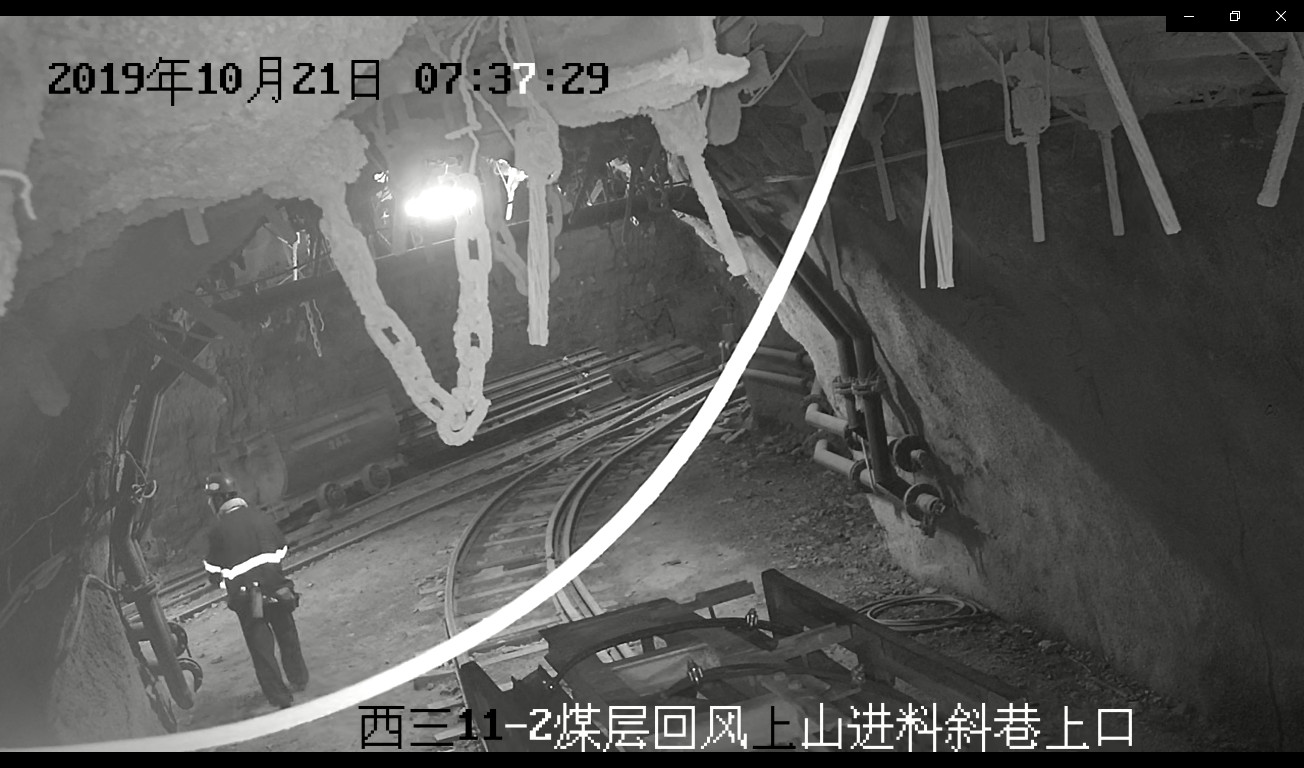helmet: (200, 471, 239, 494)
